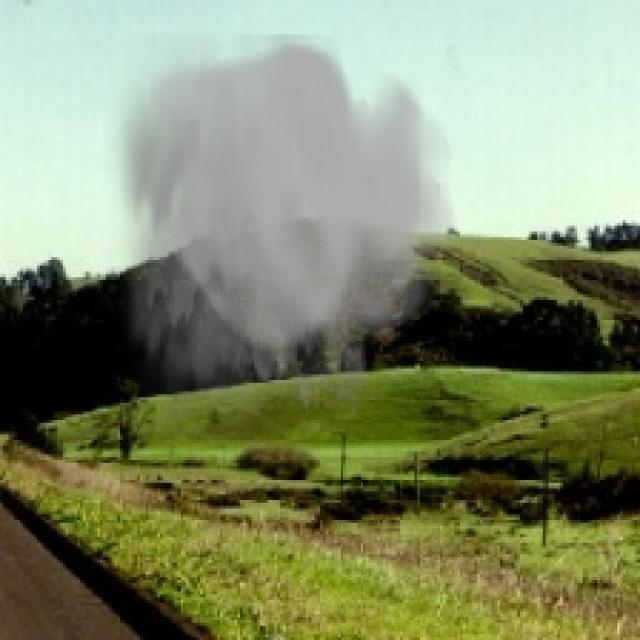Smoke: (100, 34, 457, 460)
